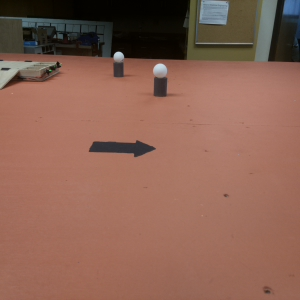obstacle: (152, 63, 169, 97), (112, 51, 125, 78)
side: (23, 61, 61, 82)
slope: (1, 67, 19, 89)
